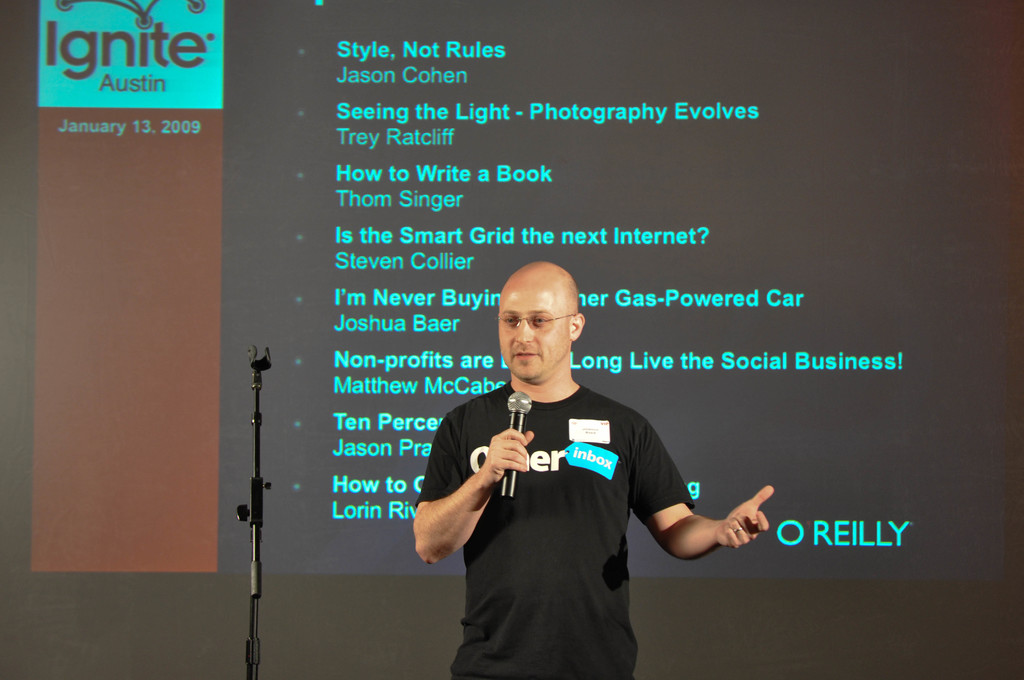Person: (413, 260, 773, 679)
